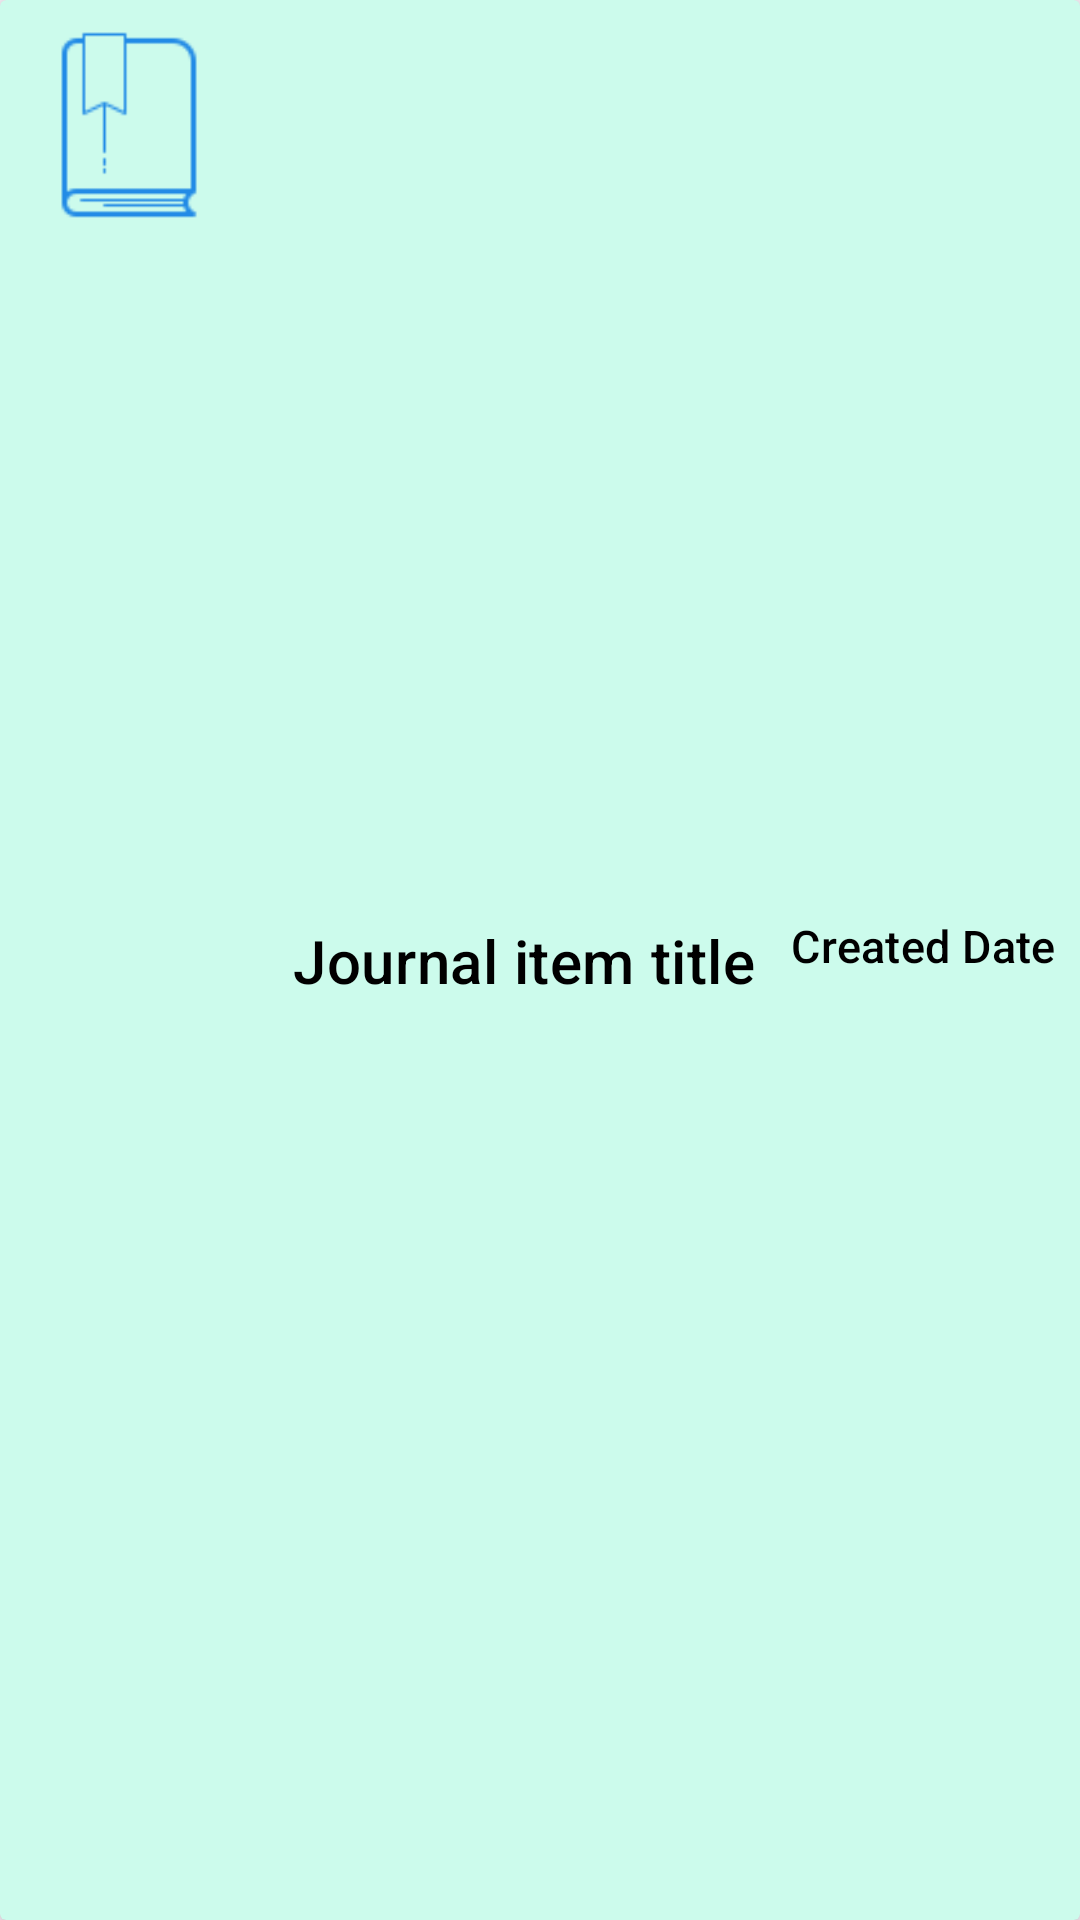

Point at icon controls on the screen. Image size 1080px x 1920px, points as point (x, y).
Journal item book icon: point (98, 109)
